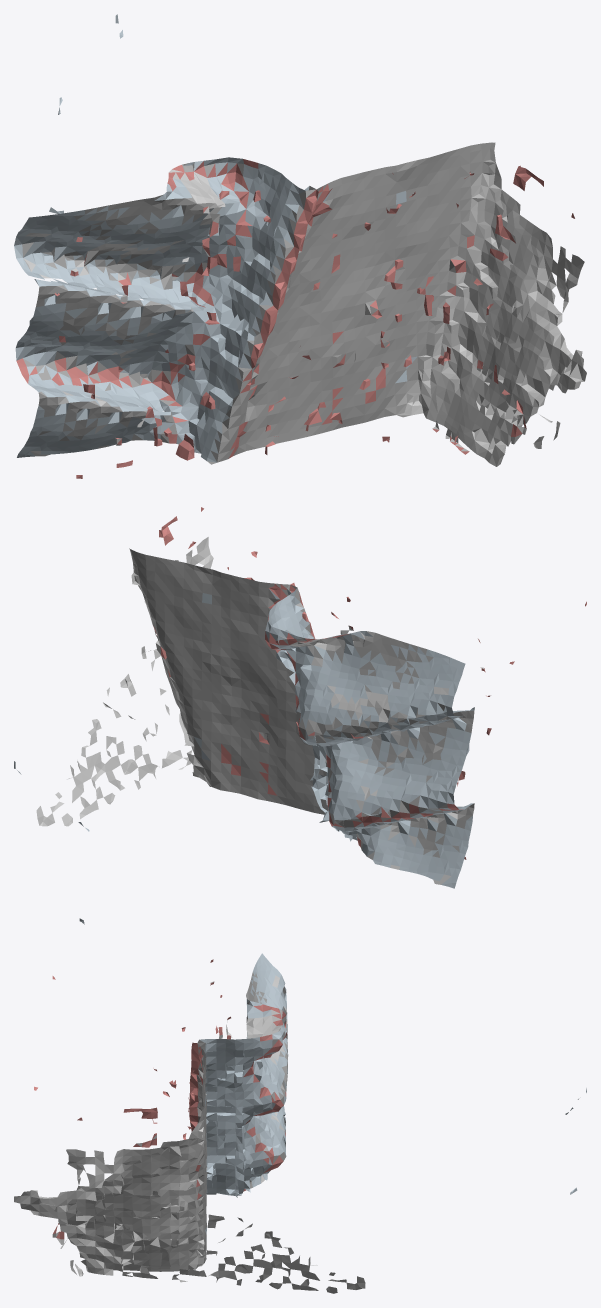
File: B173-날개__lt_dynnow_ALS_s0__before.glb
The picture shows the model from 3 angles, top to bottom: view 1: azimuth 30°, elevation 25°; view 2: azimuth 150°, elevation 25°; view 3: azimuth 270°, elevation 25°; orthographic projection. The views are drawn at different scales.
Bounding box in the file's own units: 16 × 9 × 24.58.
